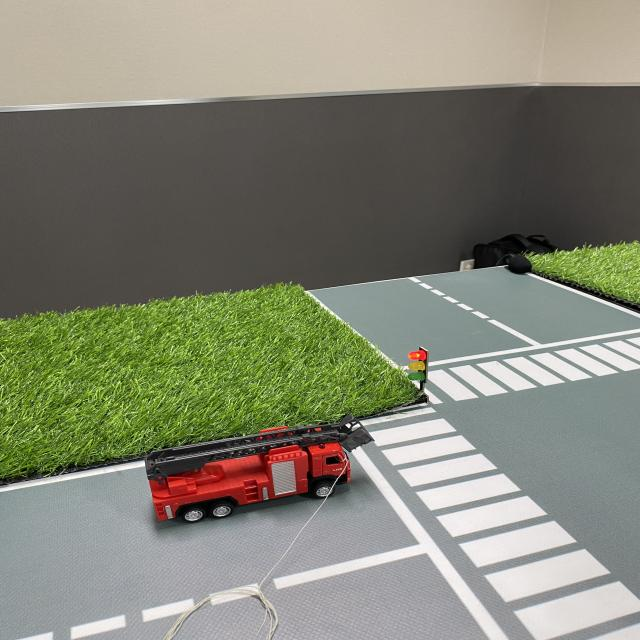Fire Truck: (141, 412, 379, 526)
